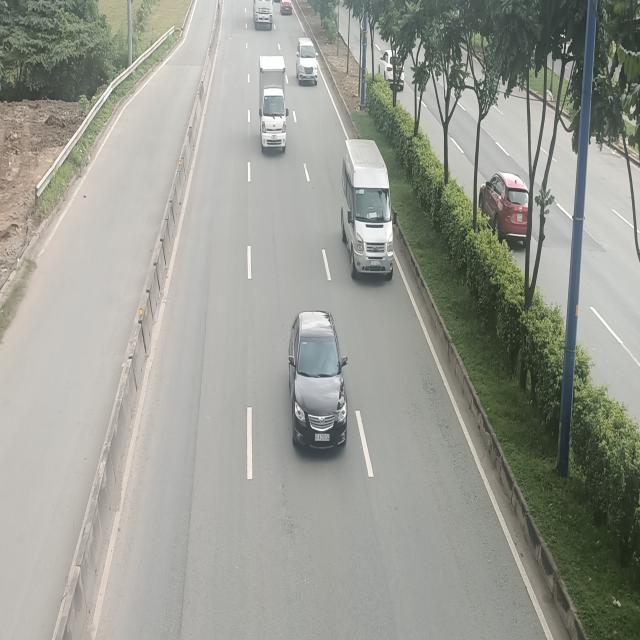car: (288, 312, 349, 453), (296, 37, 318, 84)
truck: (258, 56, 288, 154)
van: (341, 137, 397, 281)
